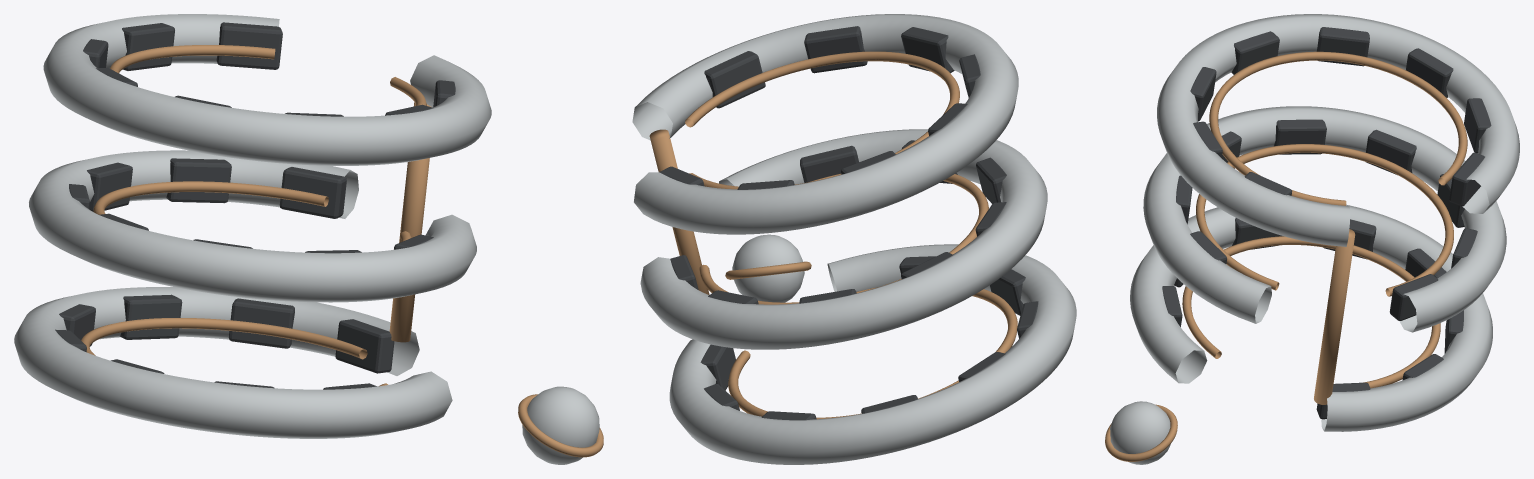
Rendered from stacked-rings.glb.
3 renders of one model, left to right at view 1: azimuth 30°, elevation 25°; view 2: azimuth 150°, elevation 25°; view 3: azimuth 270°, elevation 25°, orthographic. The views are drawn at different scales.
Visible parts, largest first — view 1: RingStack_OuterArc_0, RingStack_OuterArc_1, RingStack_OuterArc_2, RingStack_Satellite, RingStack_InnerArc_0, RingStack_InnerArc_1, RingStack_Spine_0, RingStack_Panel_1_0, RingStack_InnerArc_2, RingStack_Panel_2_0, RingStack_Panel_0_0, RingStack_Panel_0_1 (+6 smaller); view 2: RingStack_OuterArc_2, RingStack_OuterArc_0, RingStack_OuterArc_1, RingStack_InnerArc_2, RingStack_Satellite, RingStack_InnerArc_0, RingStack_Panel_2_6, RingStack_Panel_2_7, RingStack_Spine_0, RingStack_InnerArc_1, RingStack_Panel_2_5, RingStack_Panel_1_7 (+8 smaller); view 3: RingStack_OuterArc_2, RingStack_OuterArc_1, RingStack_OuterArc_0, RingStack_InnerArc_2, RingStack_InnerArc_1, RingStack_Spine_0, RingStack_InnerArc_0, RingStack_Satellite, RingStack_Panel_2_3, RingStack_Panel_1_4, RingStack_Panel_1_3, RingStack_Panel_2_2 (+19 smaller).
Boxes of the visible parts, bbox=[...] form: RingStack_OuterArc_0: bbox=[14, 287, 452, 438]; RingStack_OuterArc_1: bbox=[29, 150, 476, 302]; RingStack_OuterArc_2: bbox=[43, 14, 491, 165]; RingStack_Satellite: bbox=[522, 386, 599, 464]; RingStack_InnerArc_0: bbox=[81, 318, 388, 386]; RingStack_InnerArc_1: bbox=[93, 181, 411, 241]; RingStack_Spine_0: bbox=[389, 102, 431, 342]; RingStack_Panel_1_0: bbox=[279, 167, 346, 218]; RingStack_InnerArc_2: bbox=[110, 45, 426, 105]; RingStack_Panel_2_0: bbox=[216, 22, 282, 69]; RingStack_Panel_0_0: bbox=[335, 319, 394, 373]; RingStack_Panel_0_1: bbox=[228, 298, 294, 348]; RingStack_OuterArc_2: bbox=[632, 14, 1018, 234]; RingStack_OuterArc_0: bbox=[669, 244, 1076, 464]; RingStack_OuterArc_1: bbox=[640, 129, 1047, 349]; RingStack_InnerArc_2: bbox=[685, 51, 959, 189]; RingStack_Satellite: bbox=[732, 234, 804, 302]; RingStack_InnerArc_0: bbox=[728, 287, 1017, 419]; RingStack_Panel_2_6: bbox=[804, 26, 867, 73]; RingStack_Panel_2_7: bbox=[704, 51, 765, 108]; RingStack_Spine_0: bbox=[649, 129, 709, 294]; RingStack_InnerArc_1: bbox=[699, 173, 988, 304]; RingStack_Panel_2_5: bbox=[901, 27, 954, 73]; RingStack_Panel_1_7: bbox=[800, 145, 858, 182]; RingStack_OuterArc_2: bbox=[1157, 14, 1519, 246]; RingStack_OuterArc_1: bbox=[1143, 106, 1506, 332]; RingStack_OuterArc_0: bbox=[1130, 204, 1492, 431]; RingStack_InnerArc_2: bbox=[1209, 51, 1467, 205]; RingStack_InnerArc_1: bbox=[1196, 144, 1453, 296]; RingStack_Spine_0: bbox=[1314, 229, 1355, 404]; RingStack_InnerArc_0: bbox=[1182, 236, 1440, 388]; RingStack_Satellite: bbox=[1110, 401, 1170, 464]; RingStack_Panel_2_3: bbox=[1316, 27, 1369, 66]; RingStack_Panel_1_4: bbox=[1274, 119, 1326, 154]; RingStack_Panel_1_3: bbox=[1366, 129, 1416, 175]; RingStack_Panel_2_2: bbox=[1406, 48, 1453, 97].
Bounding box in the file's own units: 2.64 × 2.18 × 2.61.
